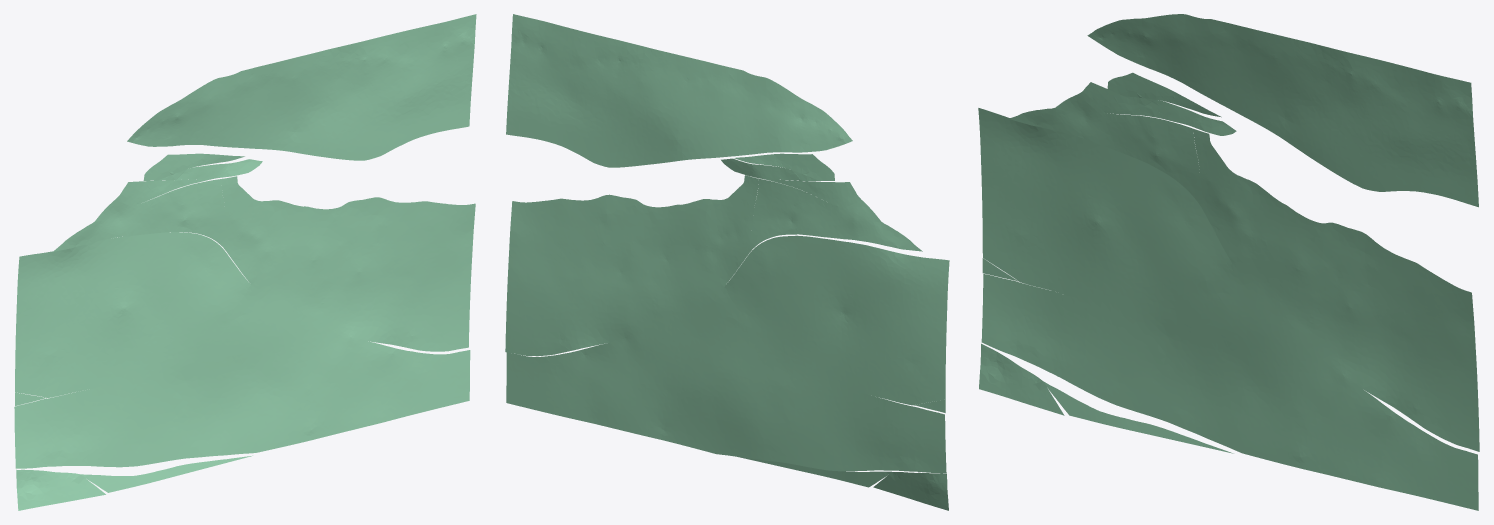
File: 06_GlasgowMainCoal_50m_GGERFS_Predrill.gltf
3 renders of one model, left to right at view 1: azimuth 30°, elevation 25°; view 2: azimuth 150°, elevation 25°; view 3: azimuth 330°, elevation 25°, orthographic. The views are drawn at different scales.
Visible parts, largest first — view 1: 06_GLASGOWMAINCOAL_50M_GGERFS_PREDRILL; view 2: 06_GLASGOWMAINCOAL_50M_GGERFS_PREDRILL; view 3: 06_GLASGOWMAINCOAL_50M_GGERFS_PREDRILL.
Boxes of the visible parts, bbox=[...] form: 06_GLASGOWMAINCOAL_50M_GGERFS_PREDRILL: bbox=[14, 14, 476, 510]; 06_GLASGOWMAINCOAL_50M_GGERFS_PREDRILL: bbox=[505, 14, 949, 510]; 06_GLASGOWMAINCOAL_50M_GGERFS_PREDRILL: bbox=[978, 14, 1479, 510].
Size of the model in its own units: 5005 by 4150 by 212.
